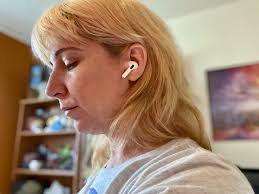earphone: (121, 43, 147, 82)
